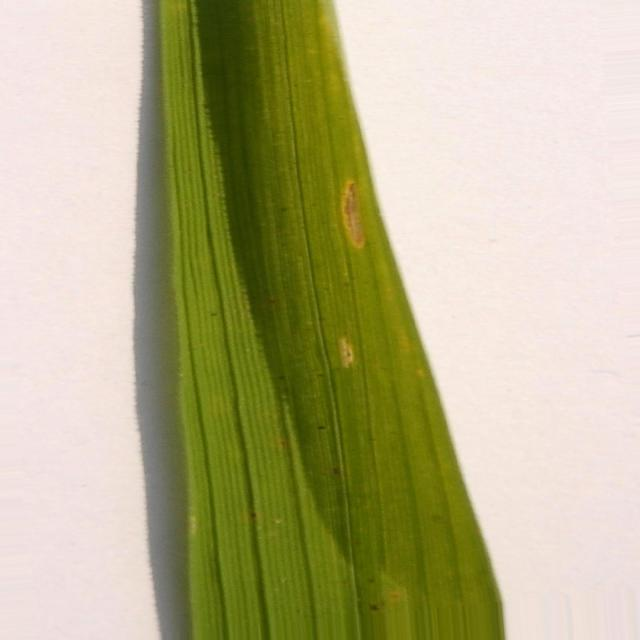Bacterial_Leaf_Blight: (341, 180, 365, 248), (339, 335, 355, 368)
